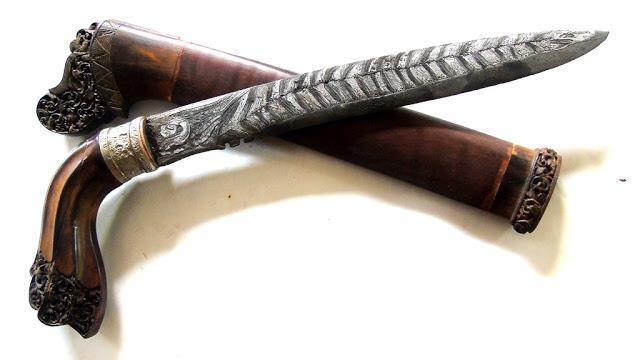facao: (29, 30, 608, 336)
